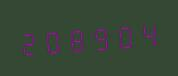eight: (66, 21, 89, 55)
four: (138, 16, 161, 50)
nine: (90, 19, 113, 54)
two: (17, 25, 40, 59)
zero: (41, 23, 64, 57), (114, 18, 137, 52)
